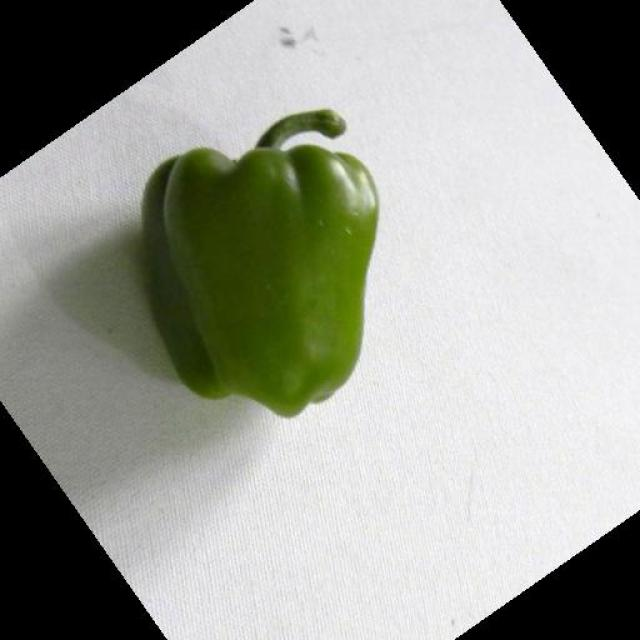Fresh_Capsicum: (120, 128, 392, 412)
